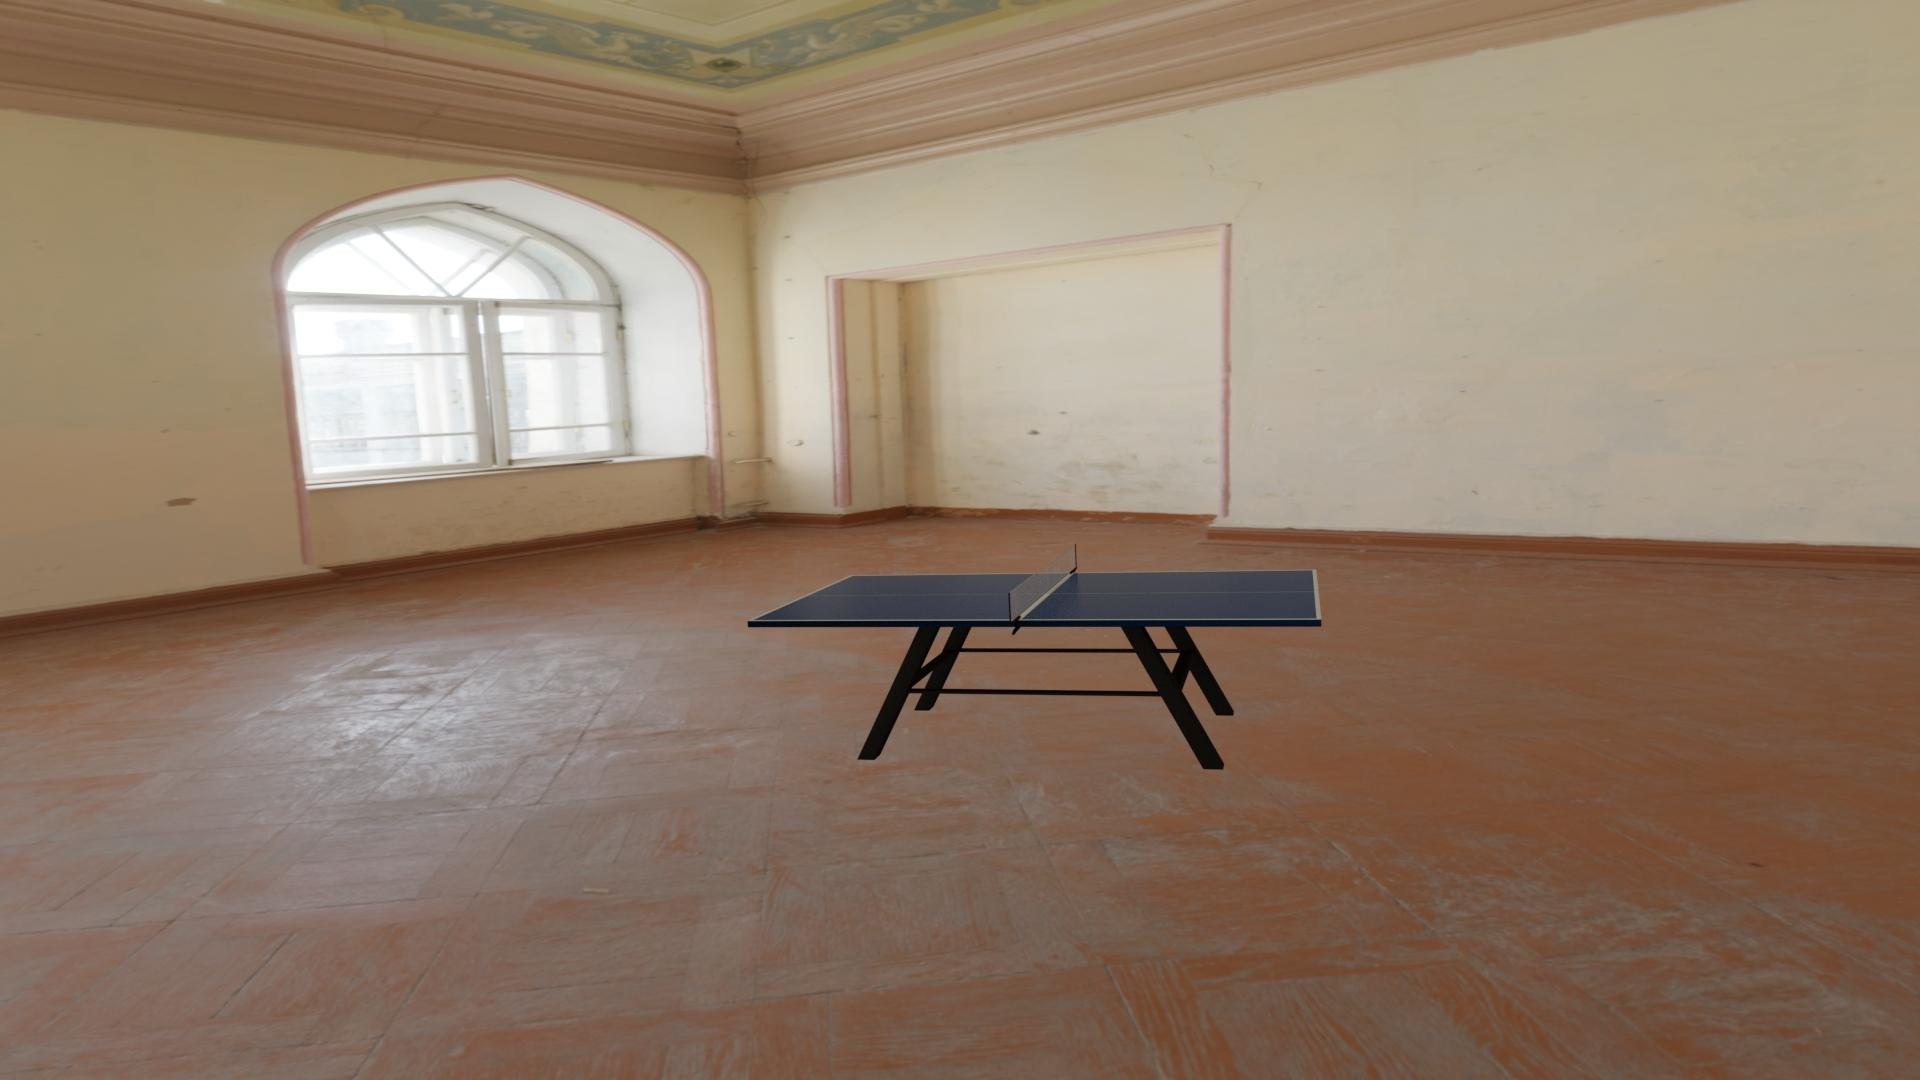table: (753, 570, 1316, 620)
